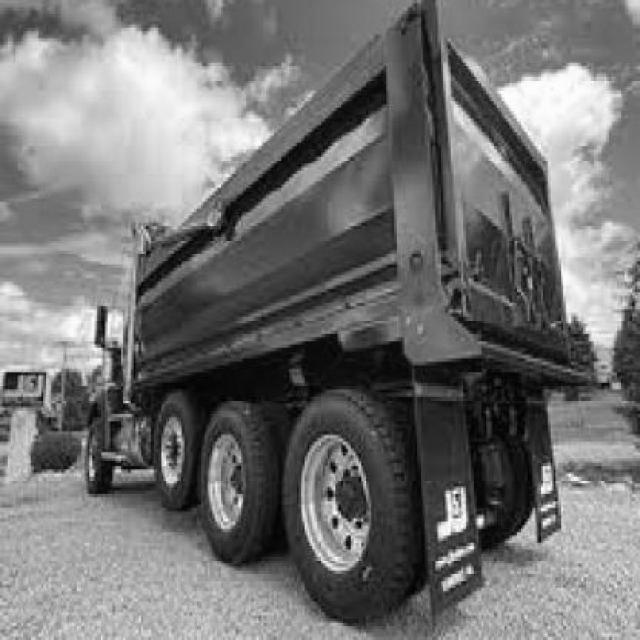Box Truck: (83, 0, 593, 631)
